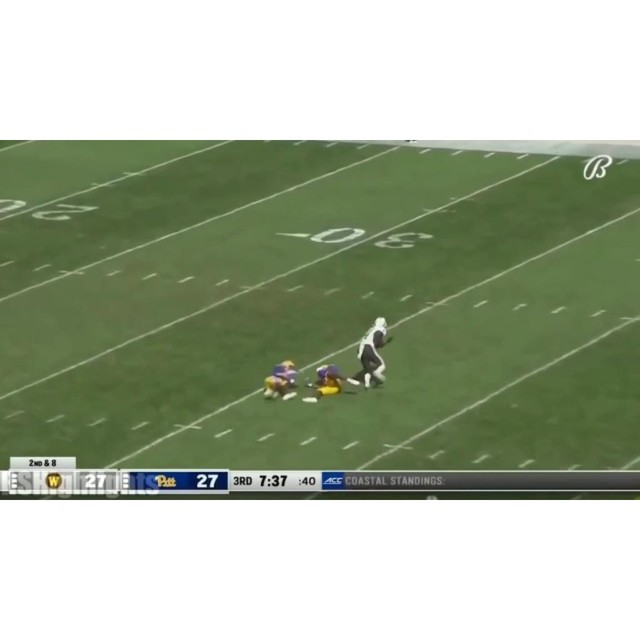american-football-player: (349, 318, 393, 390), (304, 362, 358, 403), (263, 359, 301, 402)
